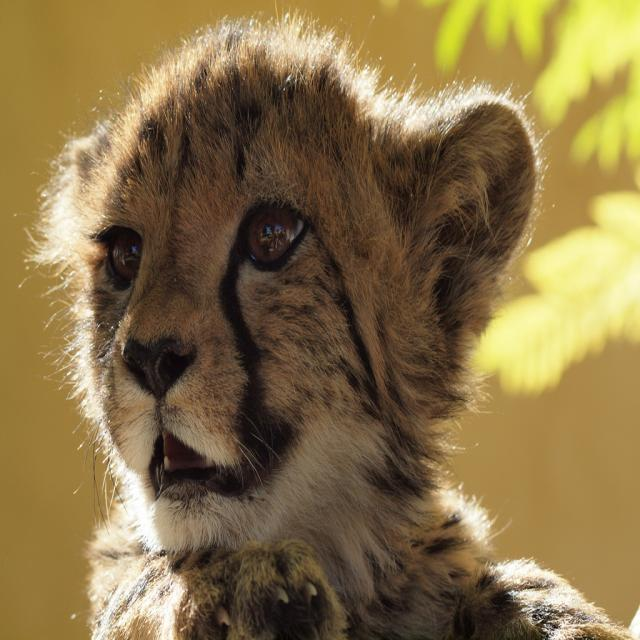Cheetah: (19, 6, 637, 640)
